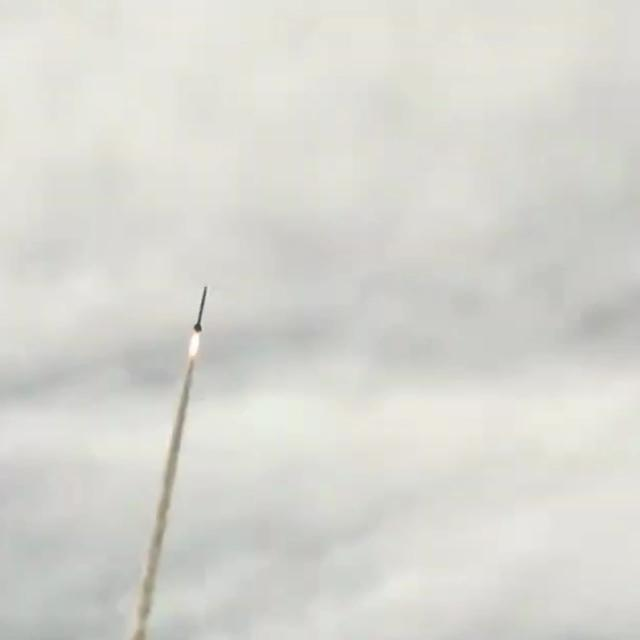rocket: (194, 286, 207, 331)
smoke_trail_with_rocket: (128, 288, 207, 640)
